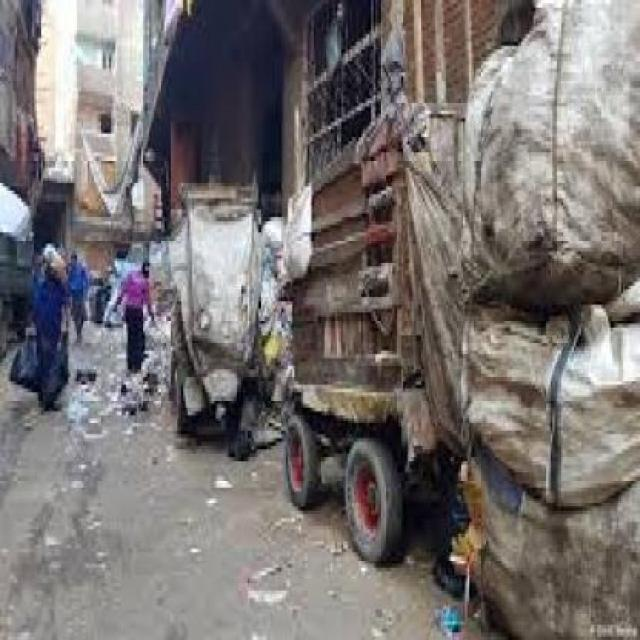garbage: (403, 0, 638, 636), (148, 225, 276, 442), (66, 359, 177, 443)
